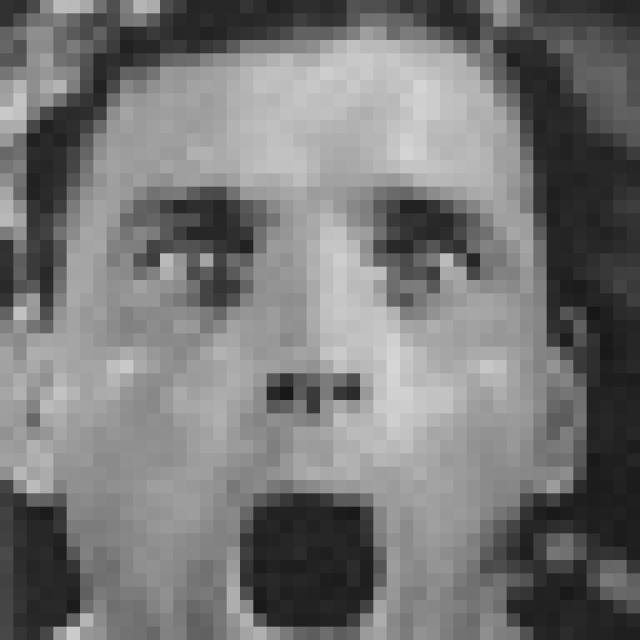surprise: (106, 178, 514, 640)
